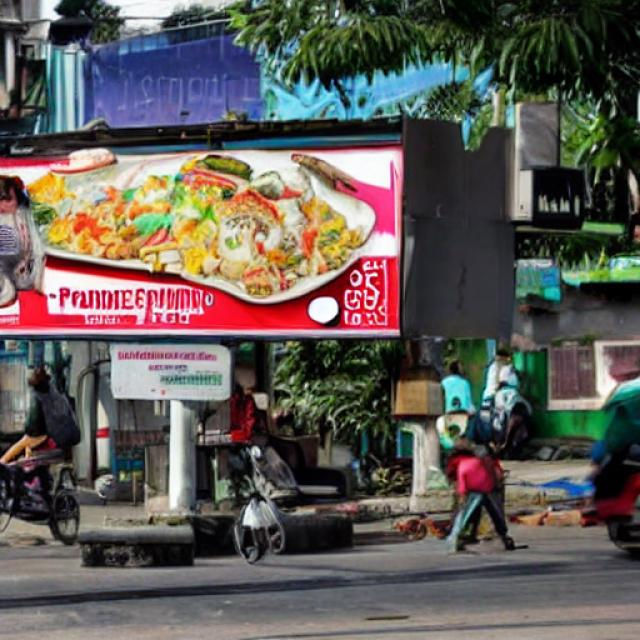Billboard: (0, 136, 410, 343)
